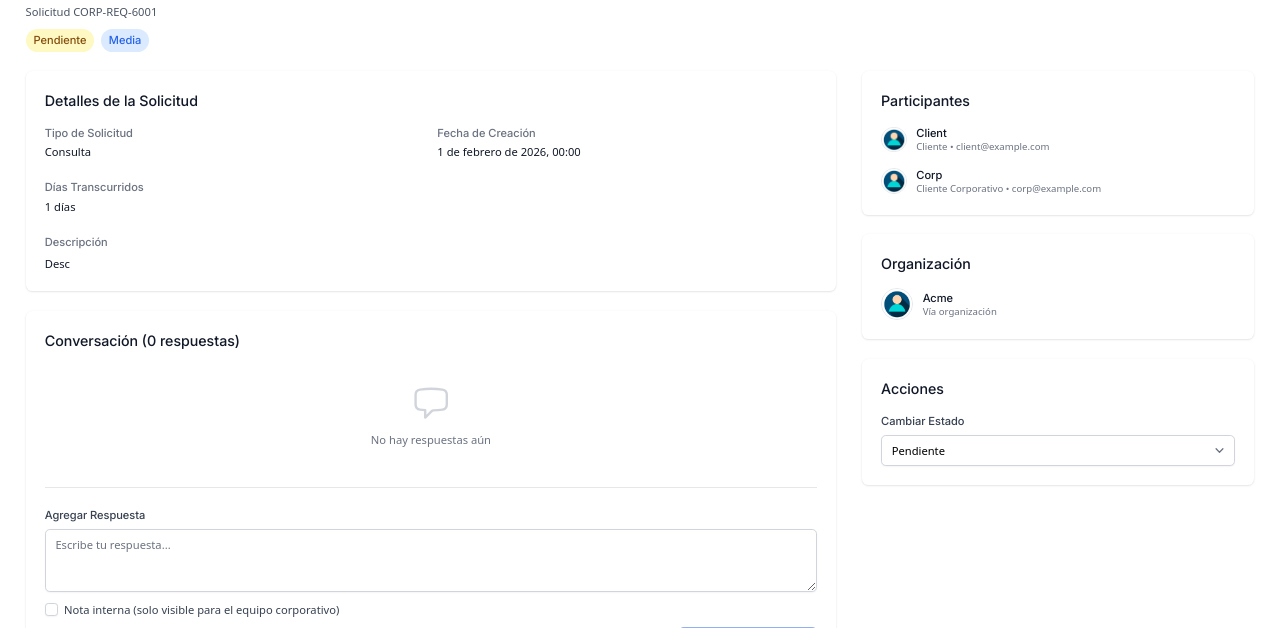
Test case: RequestDetailView.vue › corporate submitResponse includes is_internal_note and syncs responses from store.currentRequest
Type "  Nota  " into the text box with id "response".
click(431, 560); type("  Nota  ")  # box [45, 529, 817, 592]
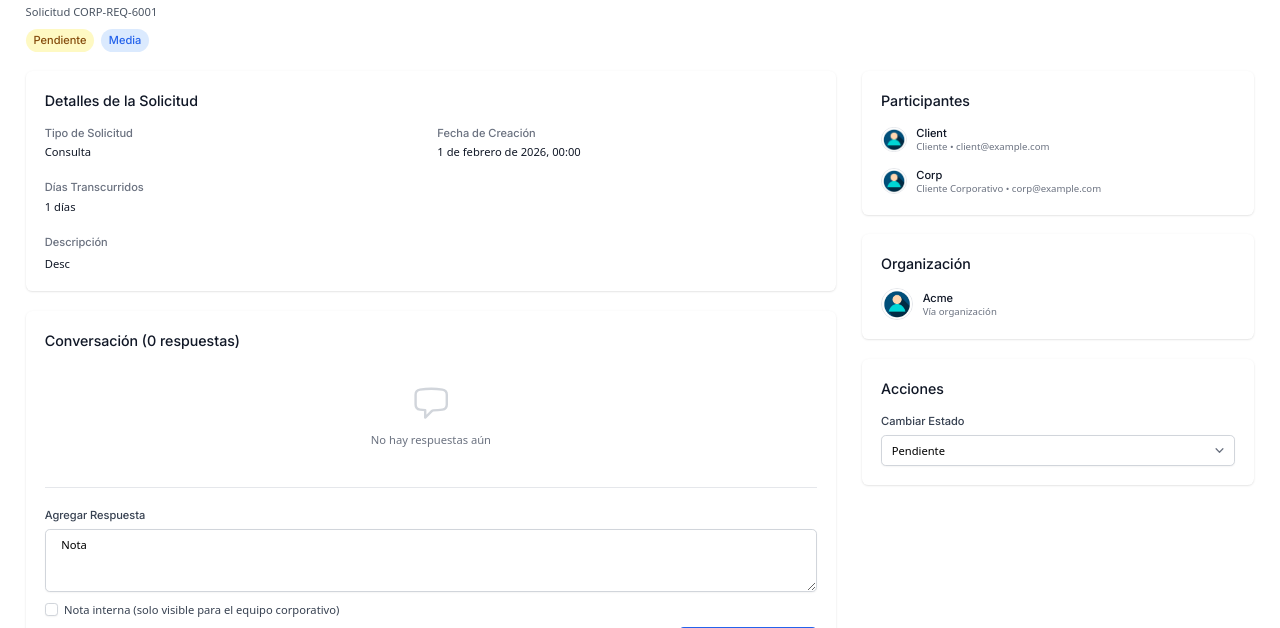
Click the checkbox labelled "Nota interna (solo visible para el equipo corporativo)".
click(51, 610)  # box [45, 603, 58, 616]
(page scrolled)
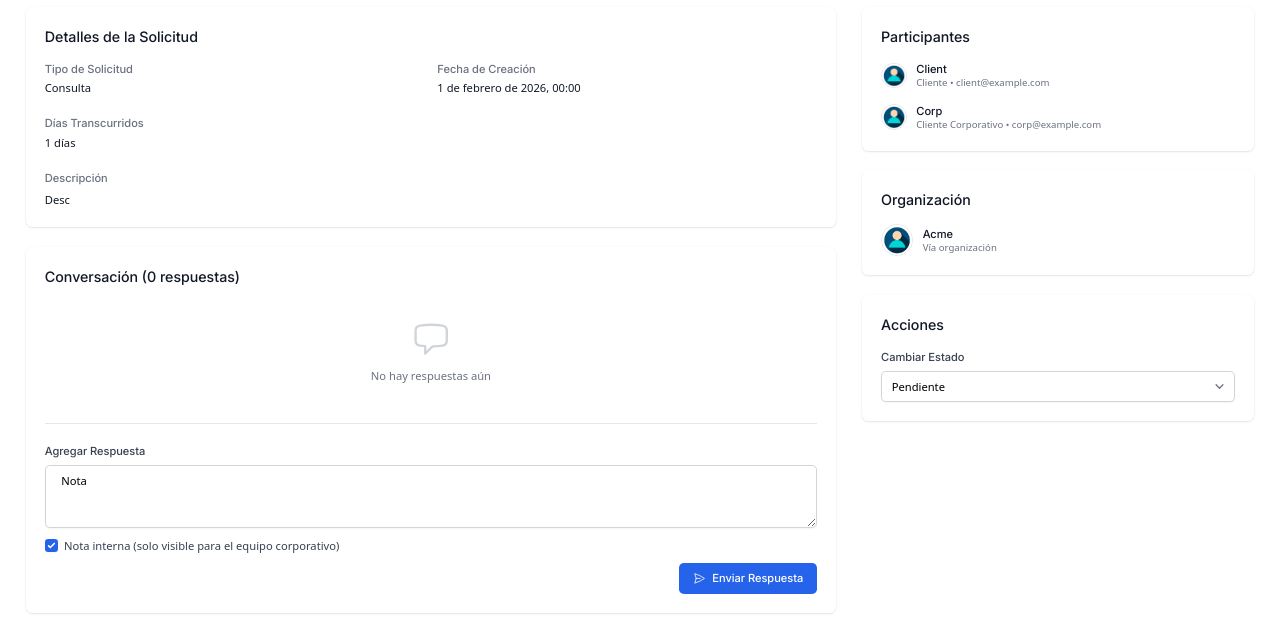
Submit the form, box [45, 422, 817, 594]
(page scrolled)
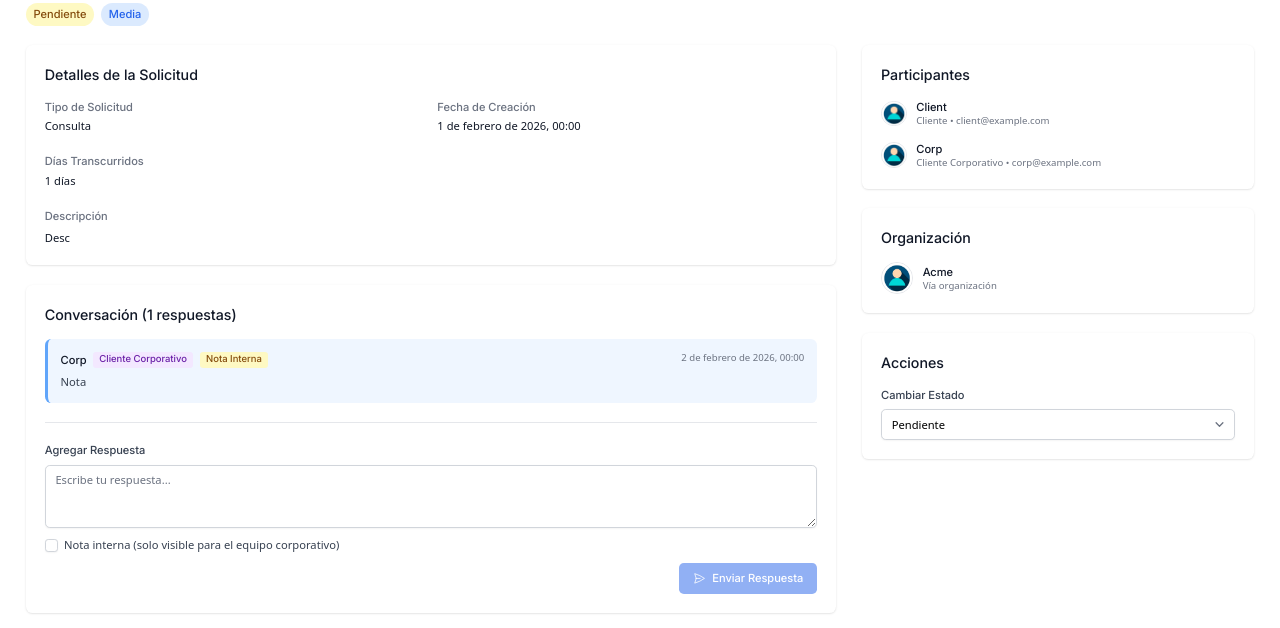
Expected: the checkbox labelled "Nota interna (solo visible para el equipo corporativo)" is not checked, [45, 539, 58, 552]
Expected: the text "Conversación (1 respuestas)" is shown, [45, 306, 237, 323]
Expected: the text box with id "response" is empty, [45, 465, 817, 528]
